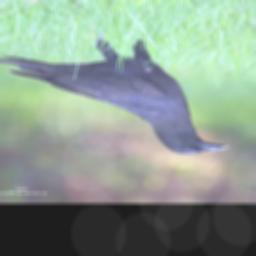Crow: (0, 27, 228, 156)
